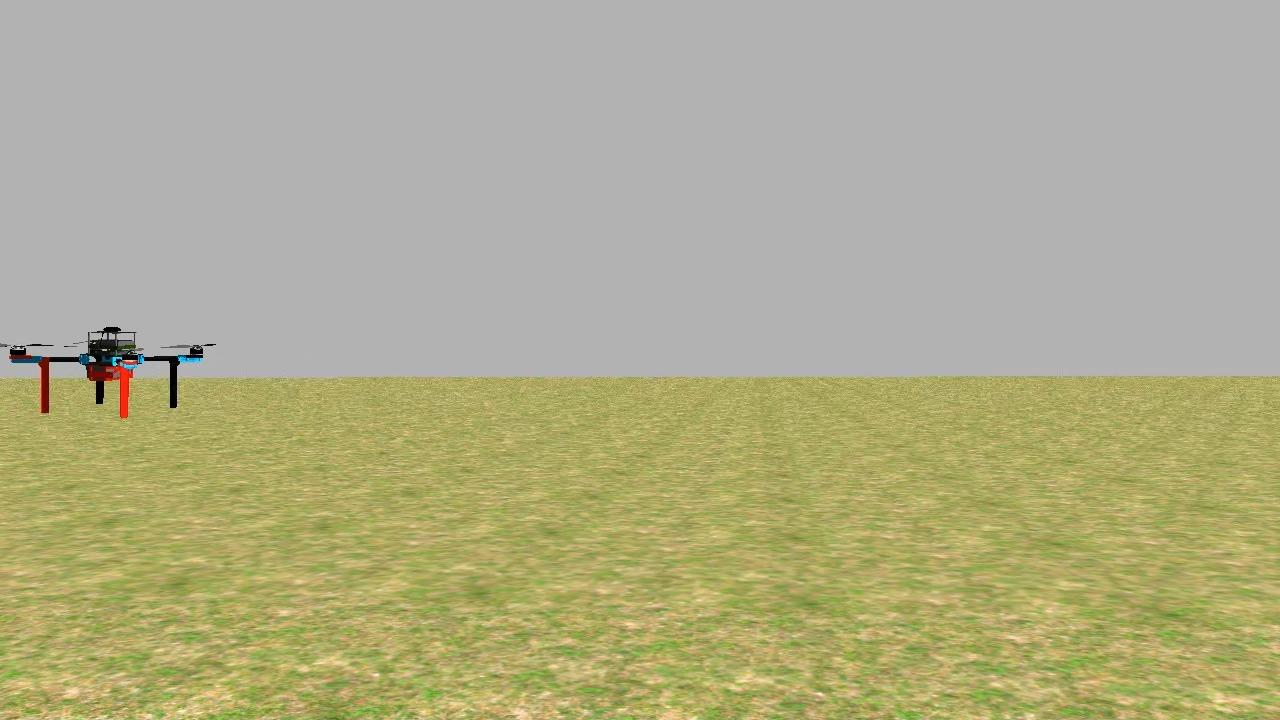UAV: (3, 312, 213, 441)
